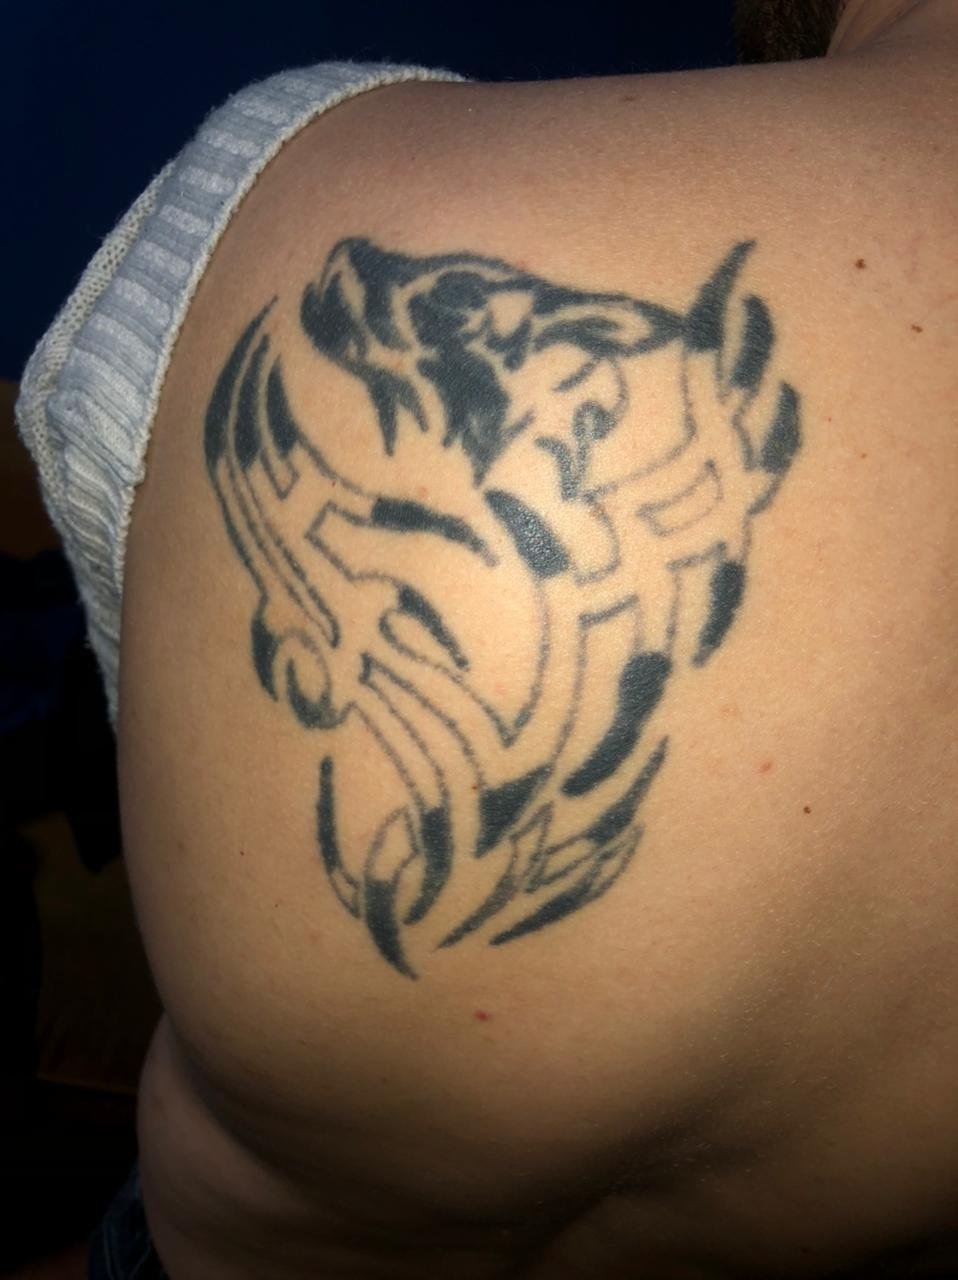tatu7_zmeya: (188, 113, 888, 1033)
